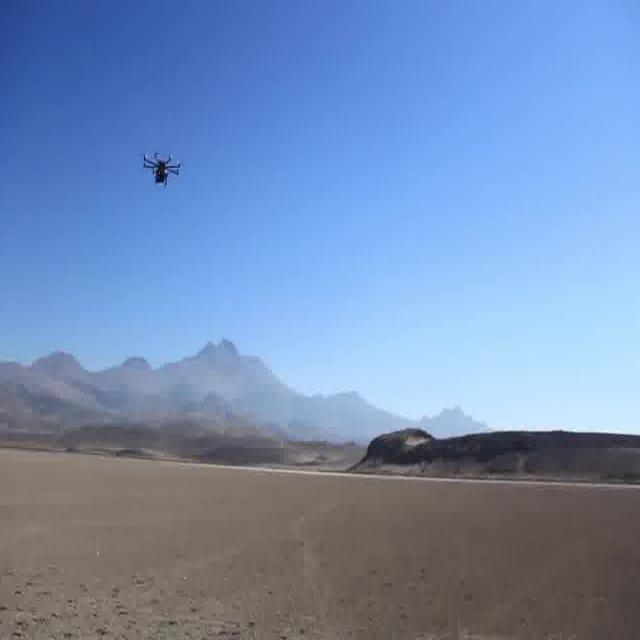drone: (137, 126, 186, 206)
